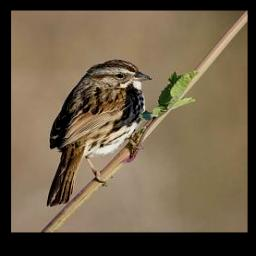Sparrow: (45, 56, 154, 207)
